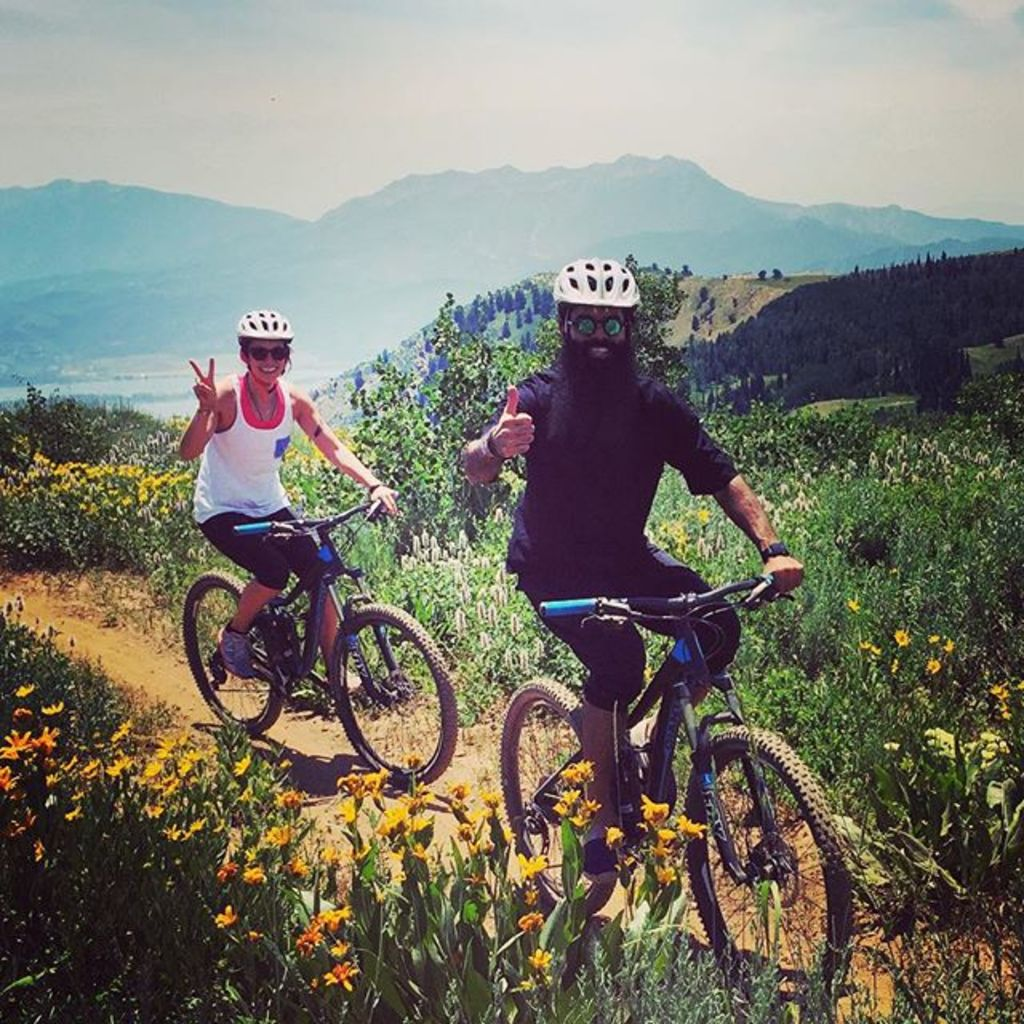Bike_toward: (163, 481, 455, 783)
